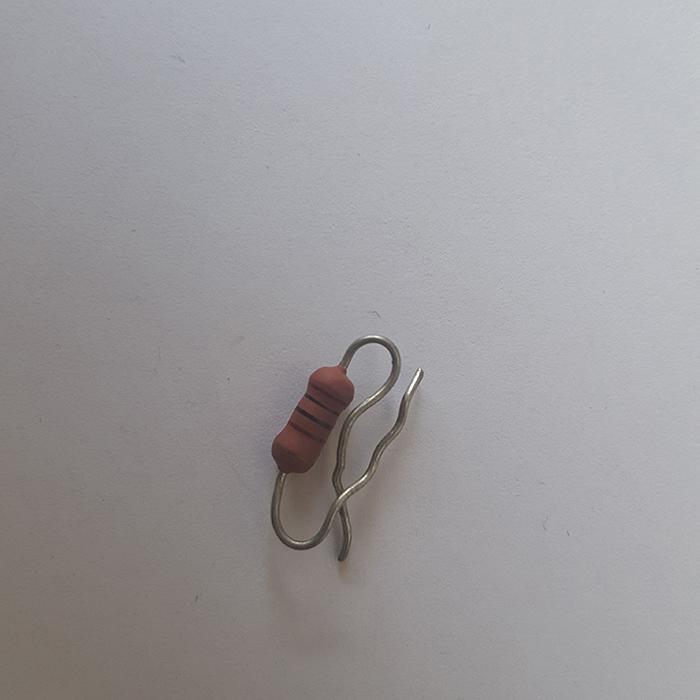resistor: (273, 362, 357, 475)
